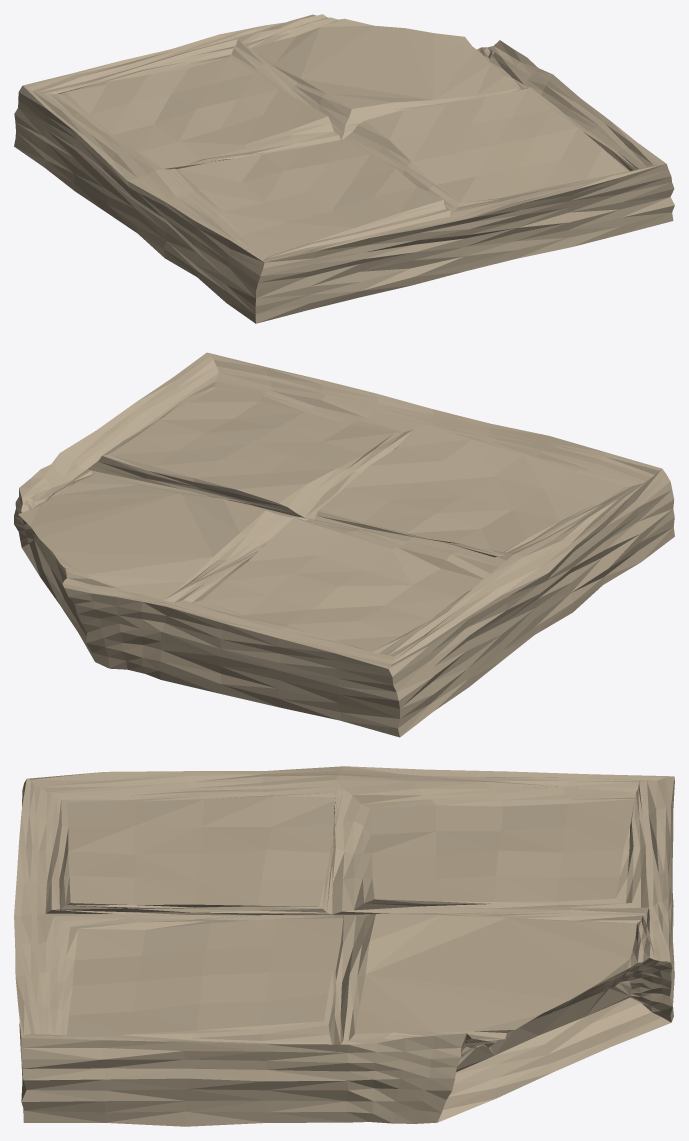
File: SM_FloorTile_B.fbx
3 renders of one model, top to bottom at view 1: azimuth 30°, elevation 25°; view 2: azimuth 150°, elevation 25°; view 3: azimuth 270°, elevation 25°, orthographic. The views are drawn at different scales.
Parts seen in each view (by area): view 1: SM_FloorTile_B; view 2: SM_FloorTile_B; view 3: SM_FloorTile_B.
Boxes of the visible parts, x1,y1,x2,y2 form: SM_FloorTile_B: (14,14,674,323); SM_FloorTile_B: (14,352,674,737); SM_FloorTile_B: (14,766,674,1126).
Size of the model in its own units: 2.06 by 0.311 by 2.04.
